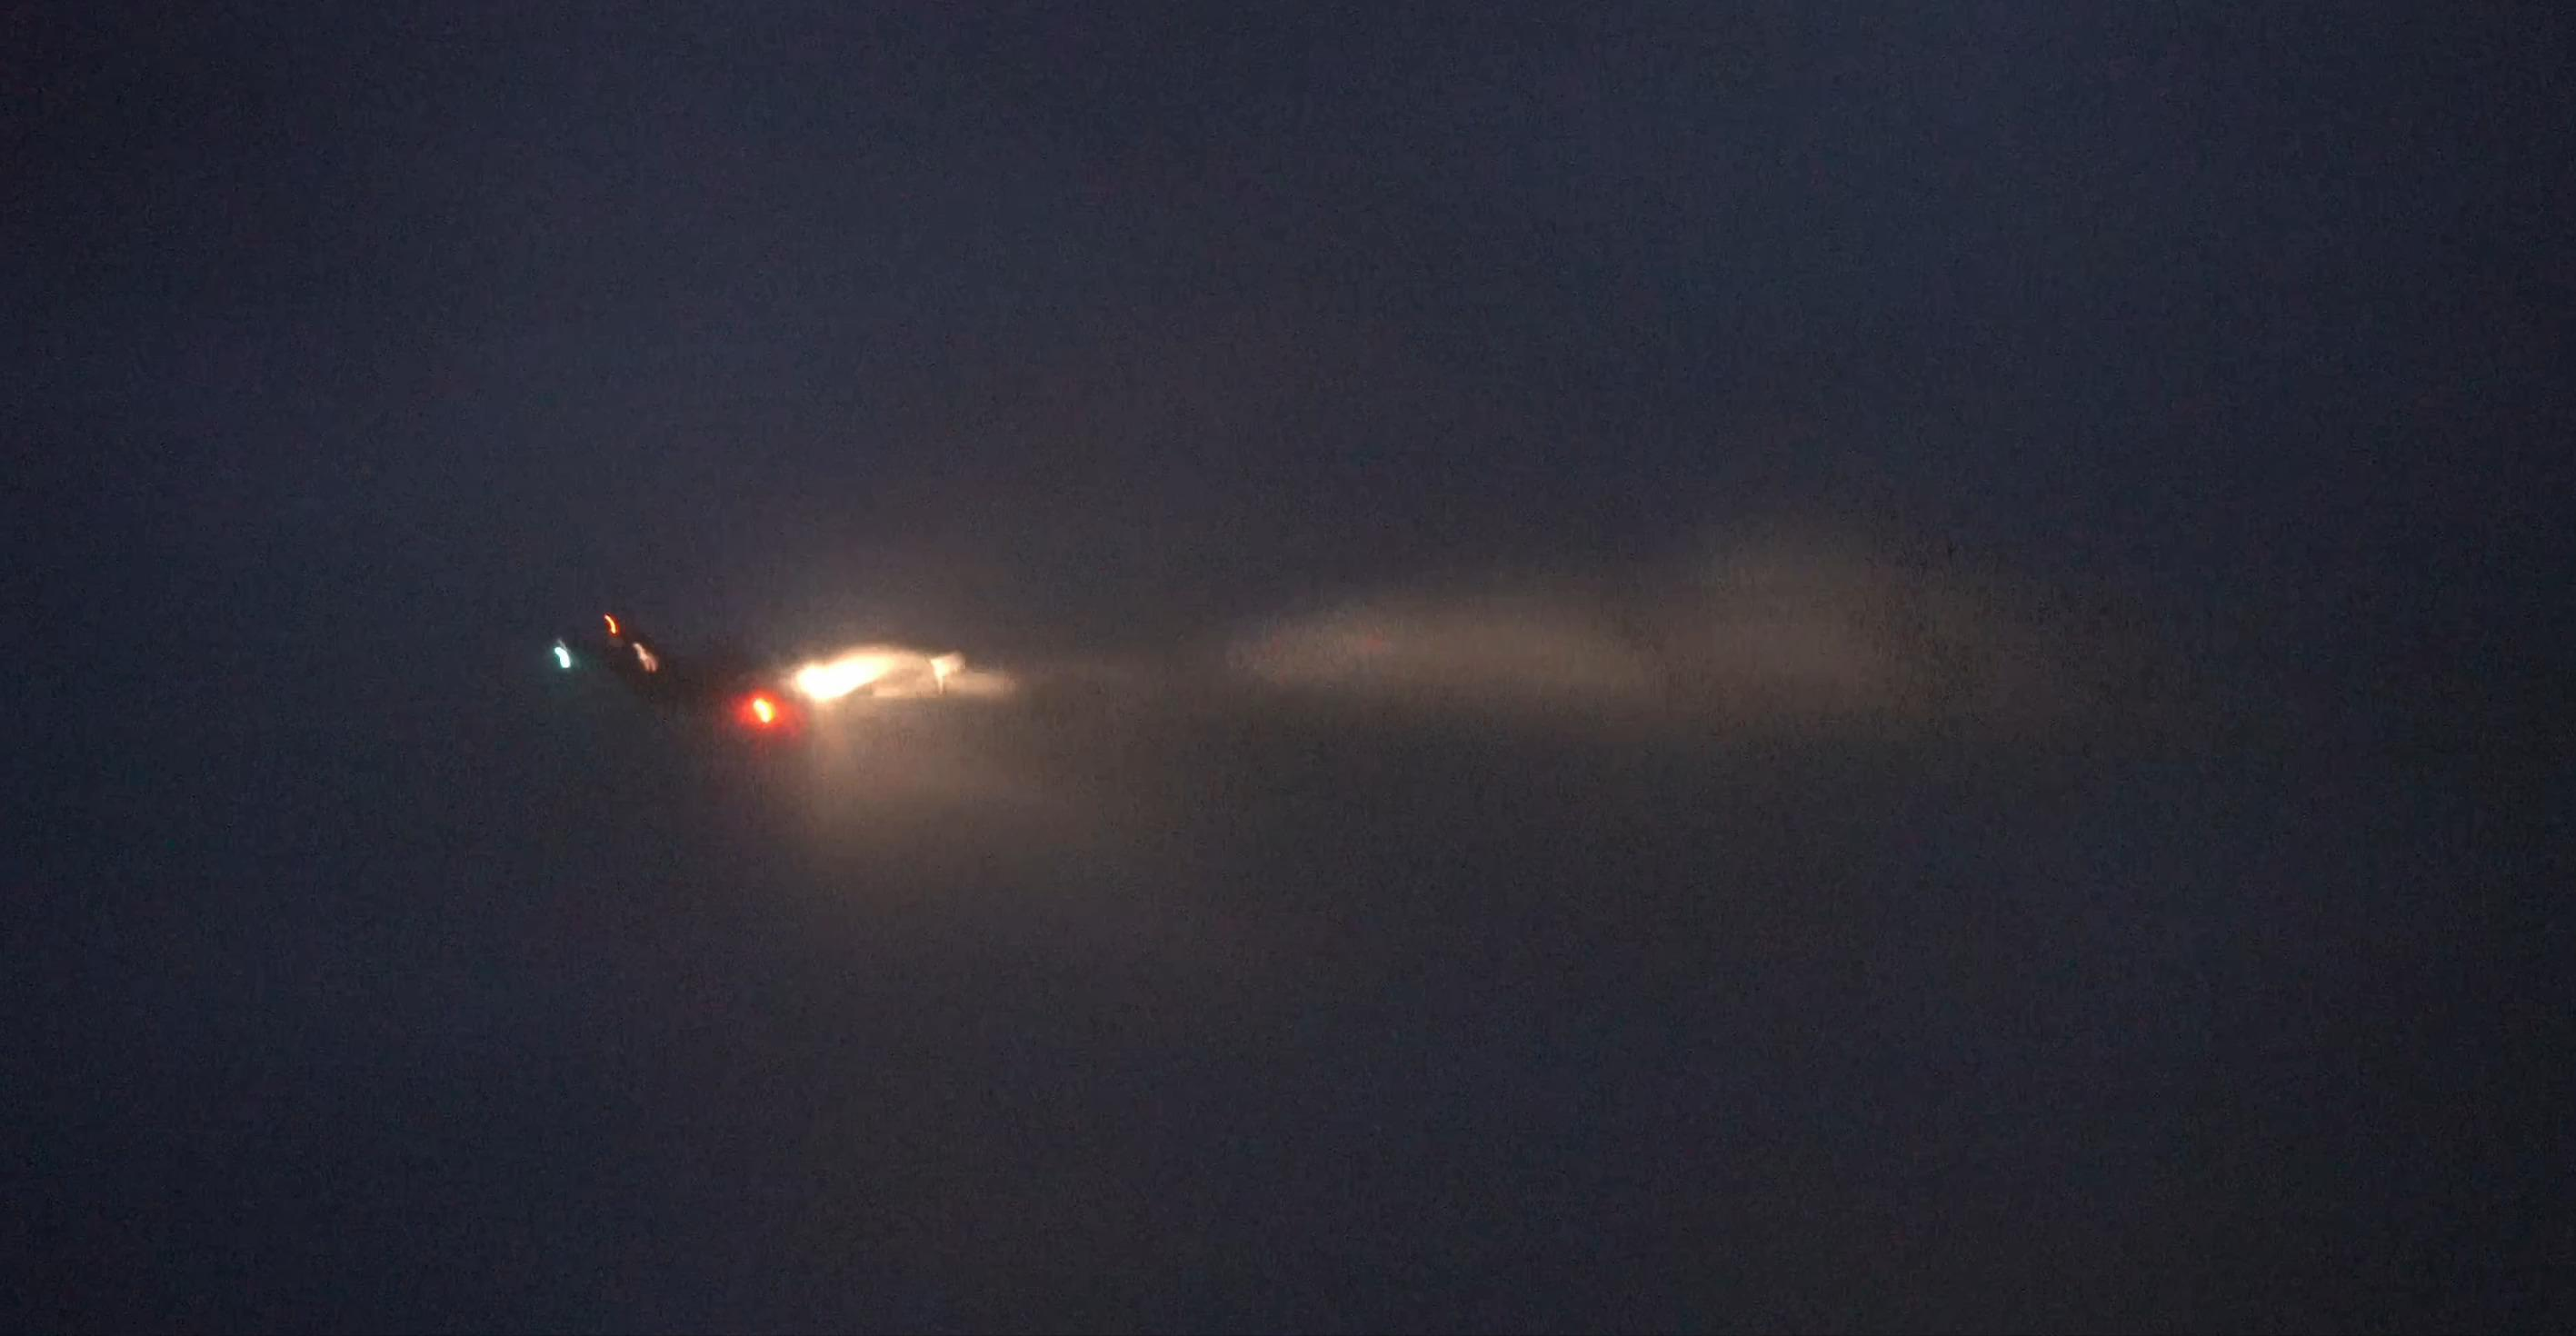Plane: (503, 608, 1031, 751)
